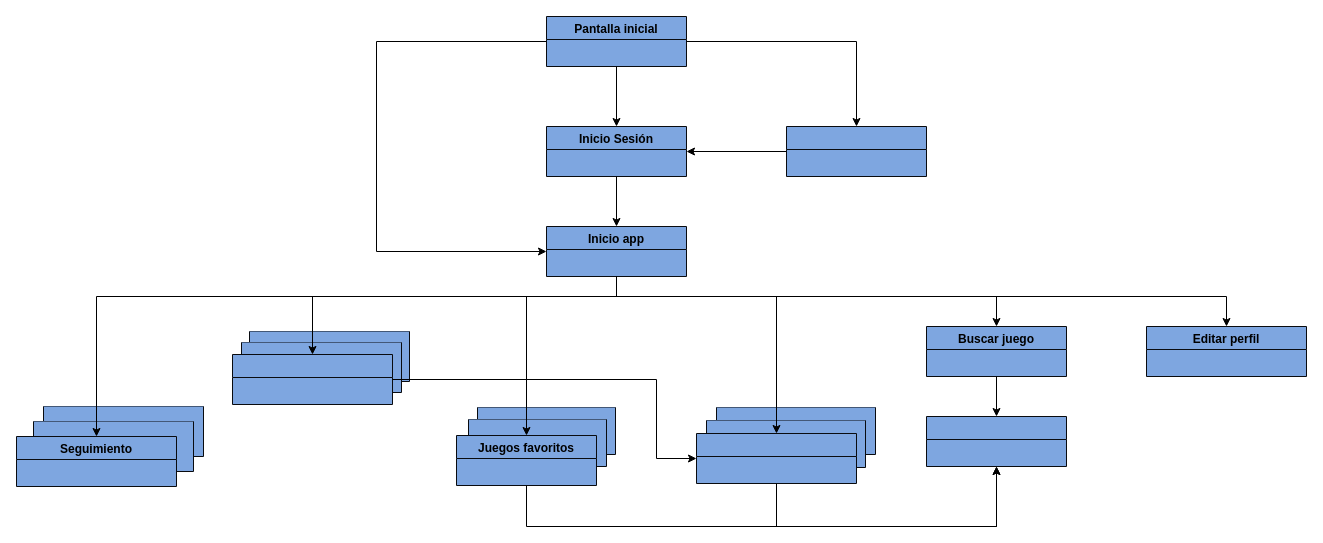
The diagram is 1323 pixels wide and 543 high, and some of its shapes have lost their labels. Here are the shapes that lost their labels. From the top down, the box of each, then its label:
(786, 126, 926, 176): Registro
(232, 354, 392, 404): Mis amigos
(696, 432, 856, 484): Juegos recomendados
(926, 416, 1066, 466): Detalle juego
